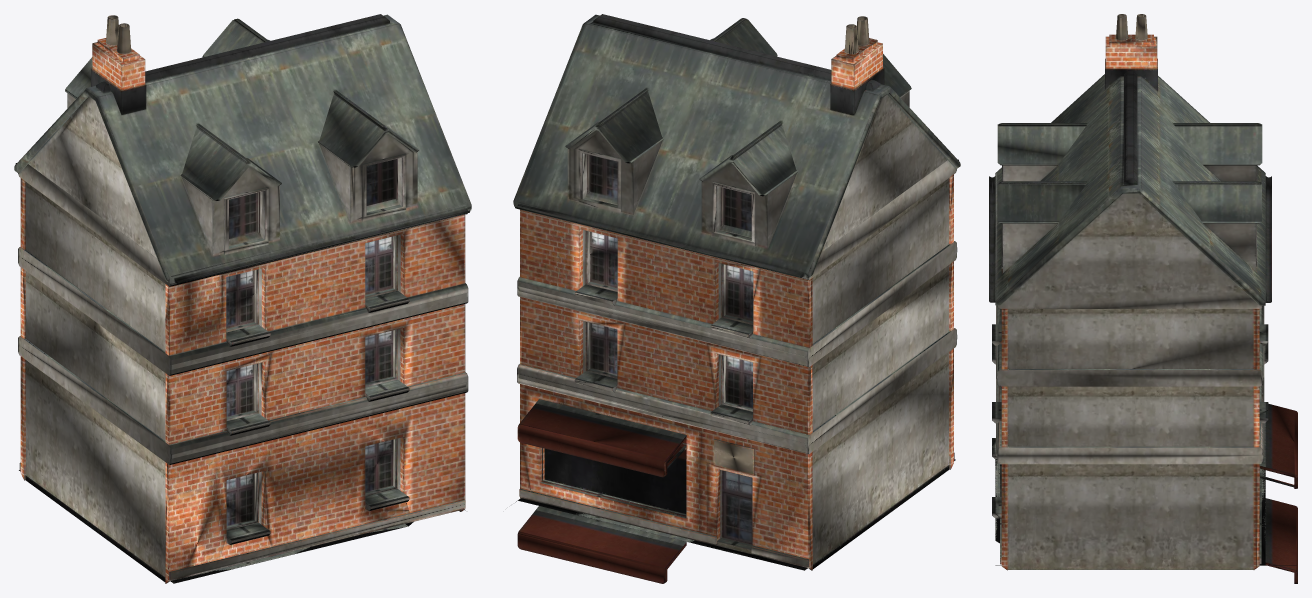
File: bld22_20c.glb
The picture shows the model from 3 angles, left to right: view 1: azimuth 30°, elevation 25°; view 2: azimuth 150°, elevation 25°; view 3: azimuth 270°, elevation 25°; orthographic projection. The views are drawn at different scales.
Parts seen in each view (by area): view 1: bld22_20c; view 2: bld22_20c; view 3: bld22_20c.
Part boxes in pixels (<box>): bld22_20c: <box>14,14,471,583</box>; bld22_20c: <box>513,14,960,583</box>; bld22_20c: <box>989,14,1297,583</box>.
Size of the model in its own units: 19.81 by 32.99 by 19.99.
1 material, 1 textured.
